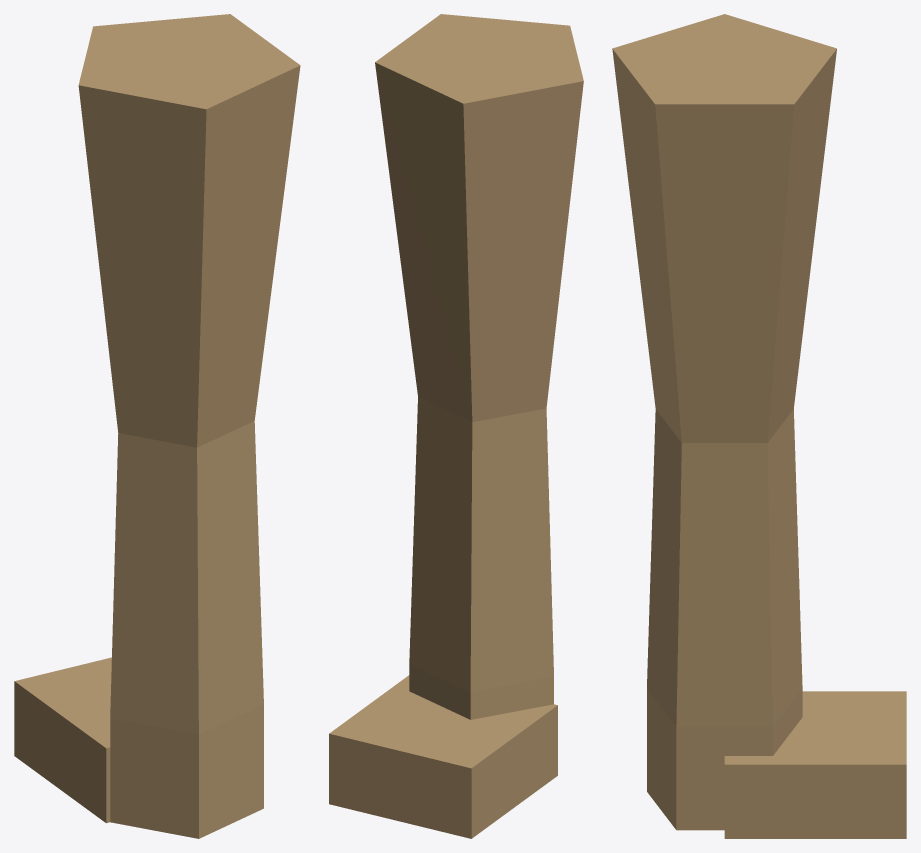
File: animal_fox_fennec_leg.obj
The picture shows the model from 3 angles, left to right: view 1: azimuth 30°, elevation 25°; view 2: azimuth 150°, elevation 25°; view 3: azimuth 270°, elevation 25°; orthographic projection. The views are drawn at different scales.
Parts seen in each view (by area): view 1: animal_fox_fennec_leg; view 2: animal_fox_fennec_leg; view 3: animal_fox_fennec_leg.
Boxes of the visible parts, x1,y1,x2,y2 form: animal_fox_fennec_leg: [14, 14, 300, 838]; animal_fox_fennec_leg: [329, 14, 583, 838]; animal_fox_fennec_leg: [612, 14, 906, 838].
Size of the model in its own units: 0.0514 by 0.1957 by 0.0707.
